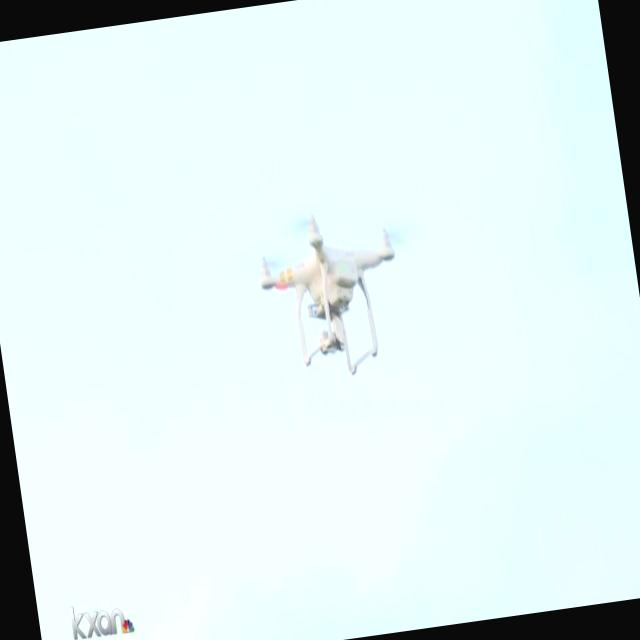drone: (250, 200, 414, 390)
